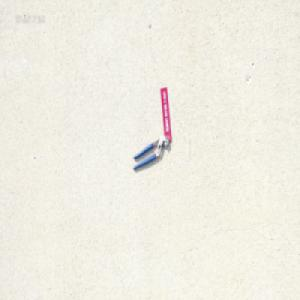Label: (160, 86, 172, 141)
Pliers: (132, 134, 169, 170)
